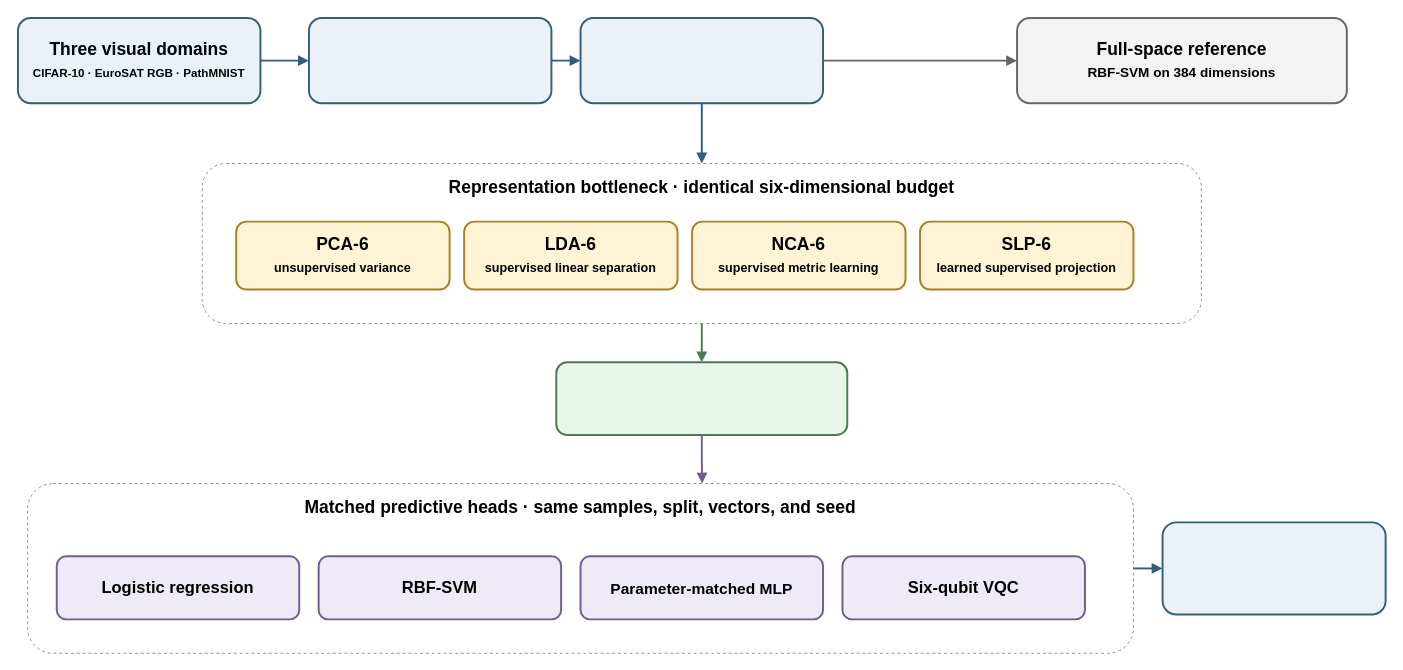
Image size: 1403x670. Some labels were removed from this diagram. Here are the shapes that lost their labels. From the top down, the centre of each, then its label:
At point (429, 60): "Frozen DINOv2 ViT-S/14 deterministic 384D CLS embedding".
At point (701, 60): "Cached representation identical vectors for every condition".
At point (701, 398): "Training-fitted angle scaling x̃ = π tanh(z)".
At point (1273, 568): "Validation-only selection 10 paired seeds locked test evaluation".
